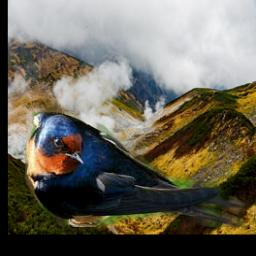Swallow: (24, 107, 244, 227)
